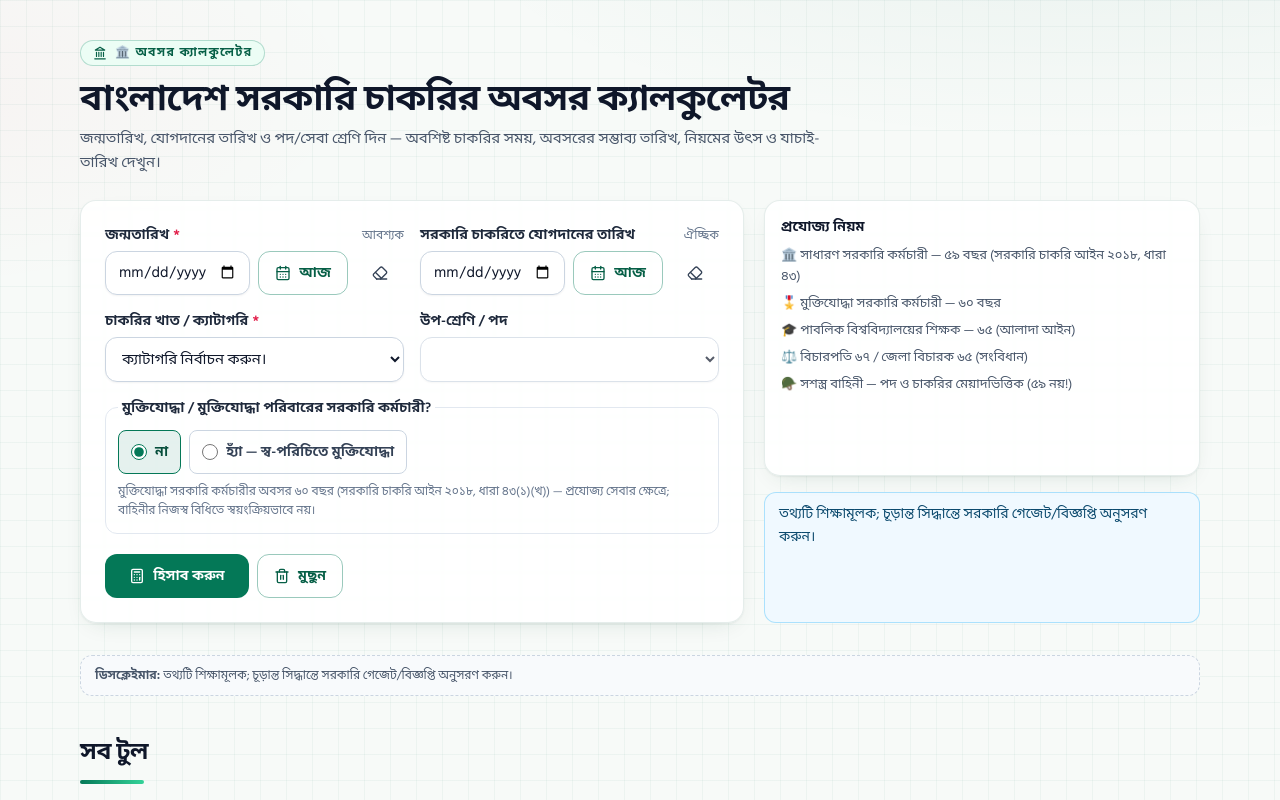
Test case: retirement flow (integration) › freedom fighter applies 60 and shows the badge
This screenshot has width=1280, height=800.
Type "1979-05-10" into the date field labelled "জন্মতারিখ* আবশ্যক". click: [178, 273]
box: [105,251,250,295]
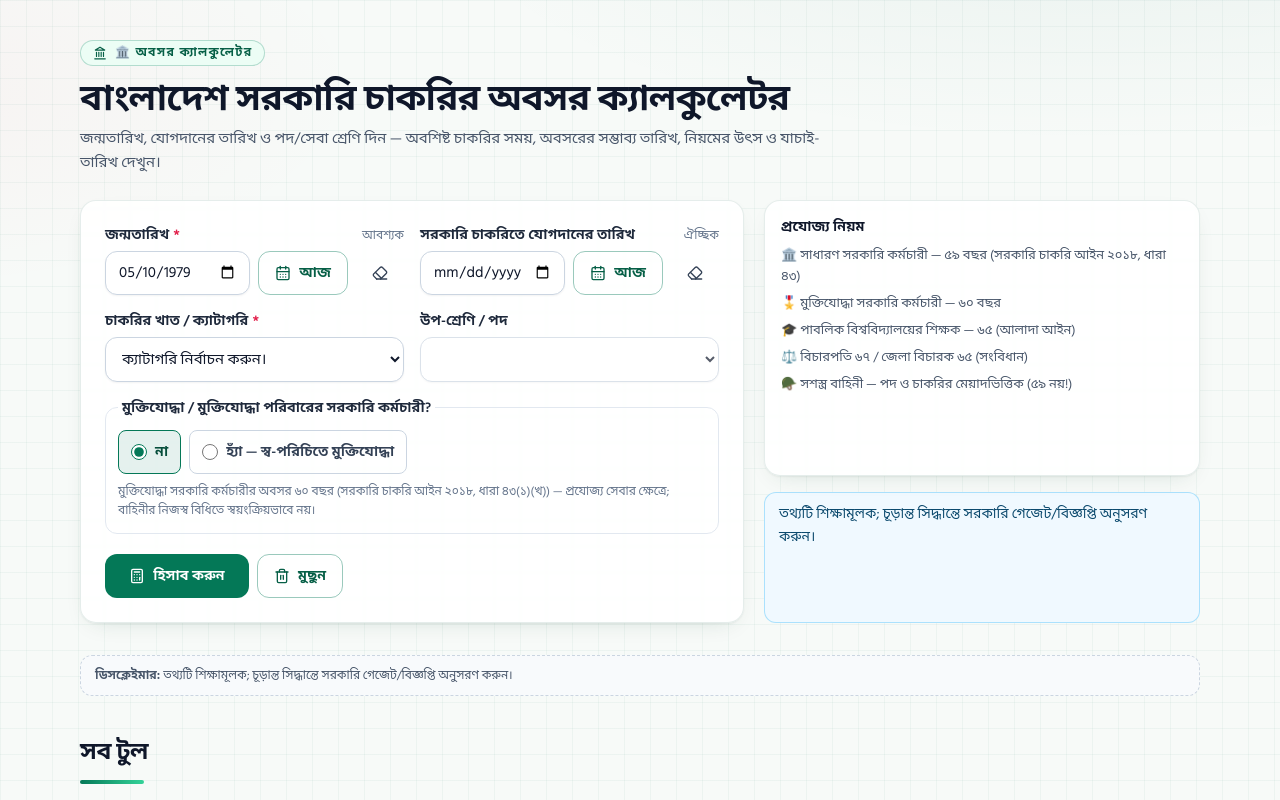
Select "সাধারণ সরকারি চাকরি" in the dropdown labelled "চাকরির খাত / ক্যাটাগরি*". click: [254, 359]
box: [105,337,404,382]
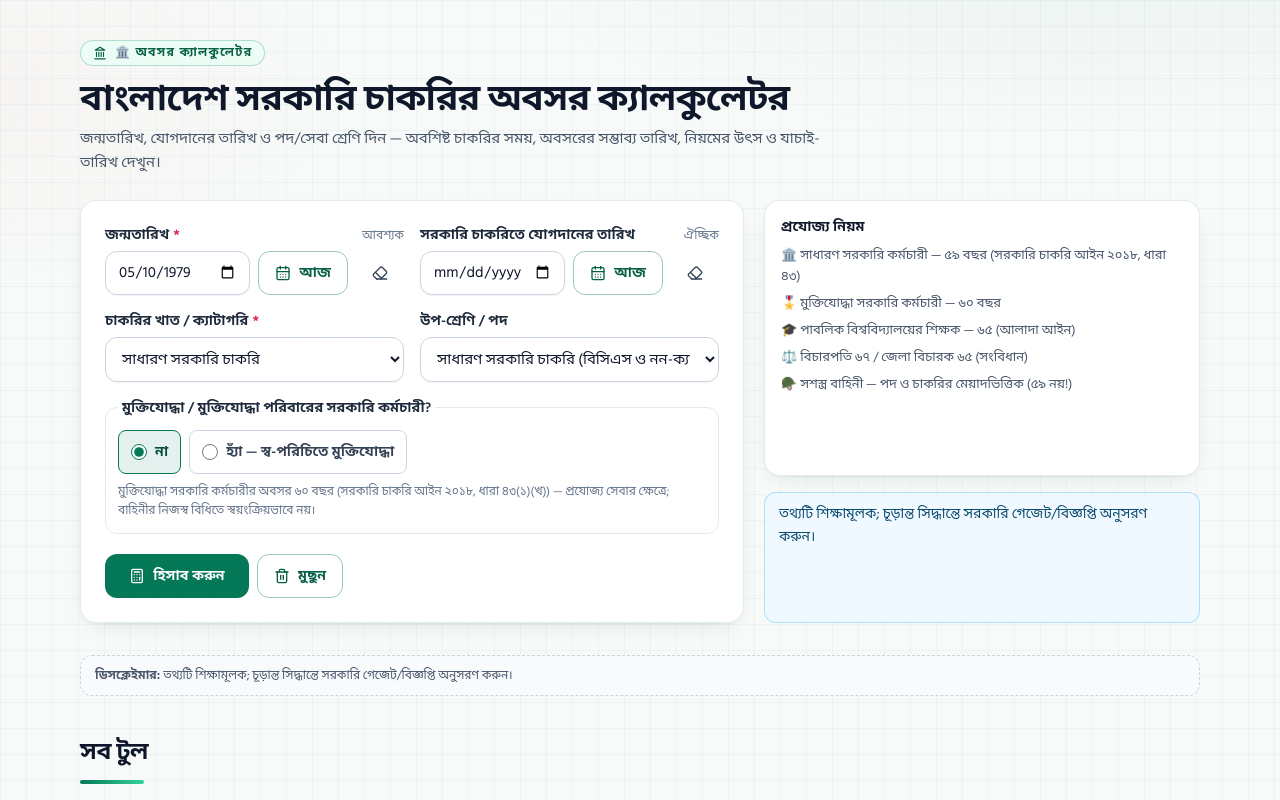
Click the radio button labelled "হ্যাঁ — স্ব-পরিচিতে মুক্তিযোদ্ধা". click: [210, 452]
box: [202,444,218,460]
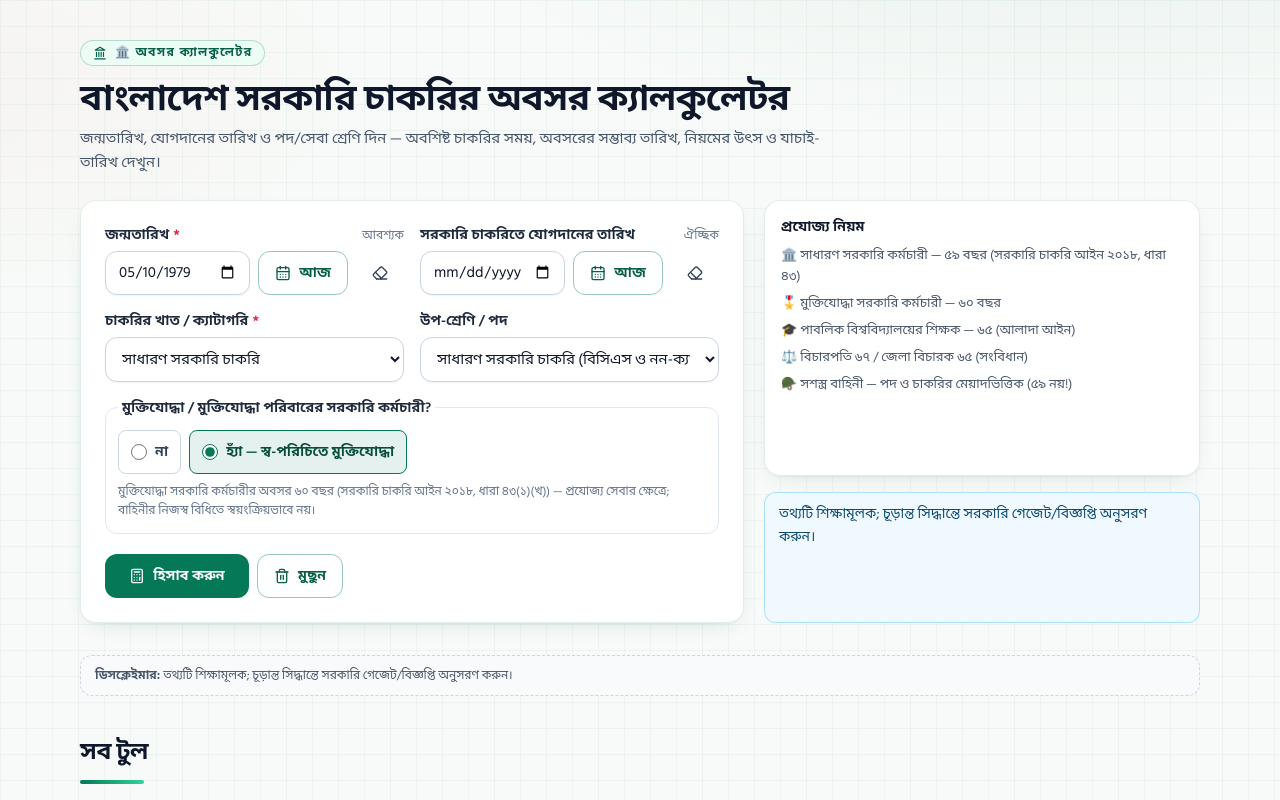
Click the button "হিসাব করুন". click: [177, 576]
box: [105,554,249,598]
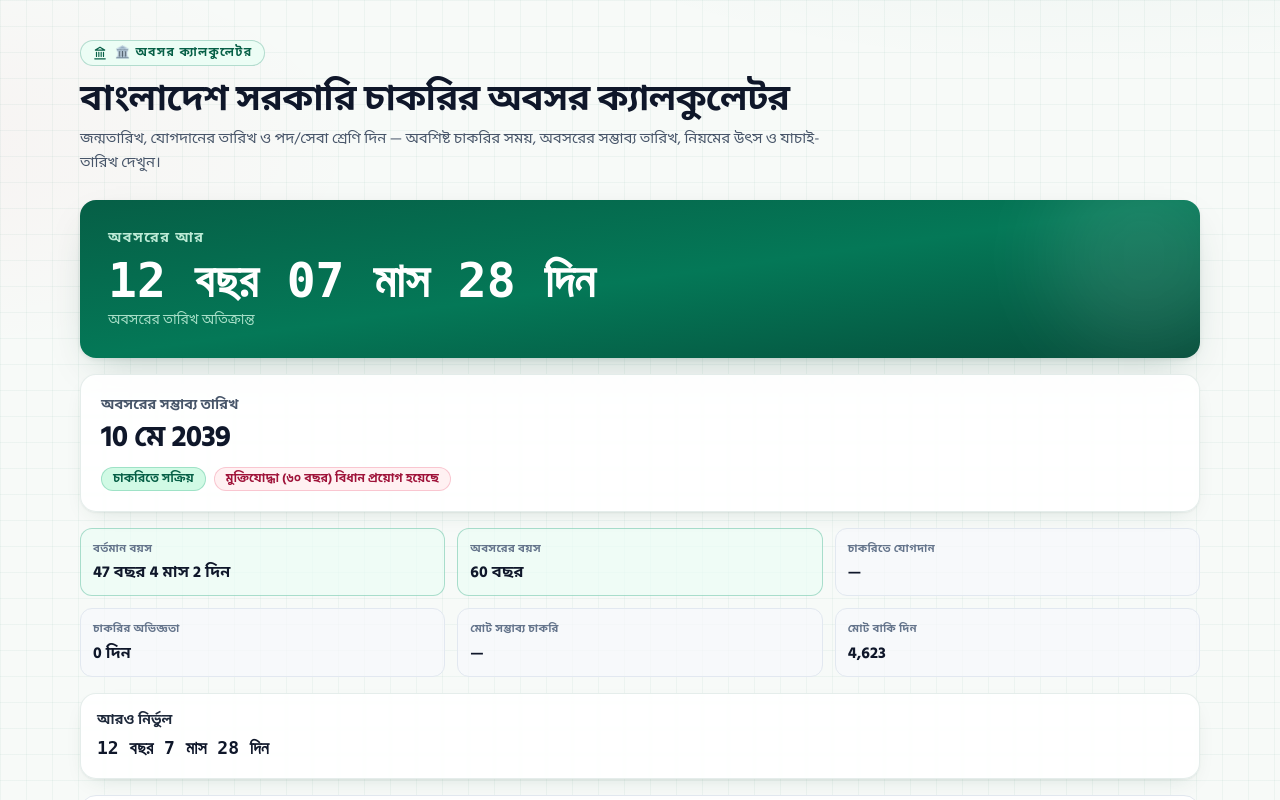
Result: the text "10 মে 2039" is shown at [101,413,230,461]
Result: the text "মুক্তিযোদ্ধা (৬০ বছর) বিধান প্রয়োগ হয়েছে" is shown at [214,467,451,491]
